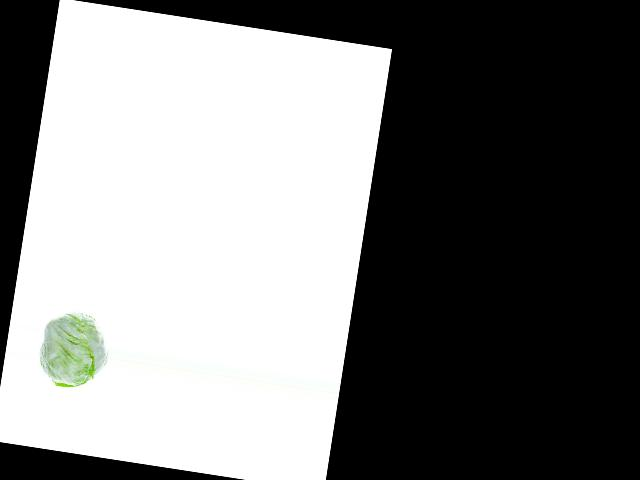lettuce: (38, 308, 112, 391)
